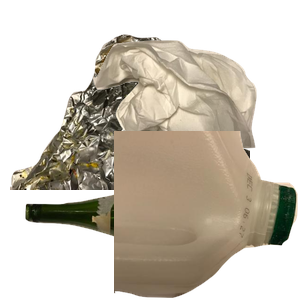glass: (23, 186, 249, 300)
metal: (10, 32, 250, 212)
plastic: (114, 131, 300, 300)
trash: (90, 38, 300, 183)
